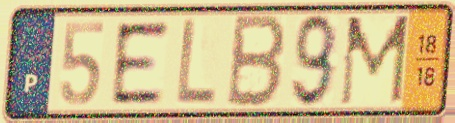5: (57, 18, 108, 108)
9: (290, 11, 342, 111)
B: (223, 11, 290, 111)
E: (110, 18, 171, 108)
L: (173, 16, 219, 109)
M: (336, 12, 413, 109)
